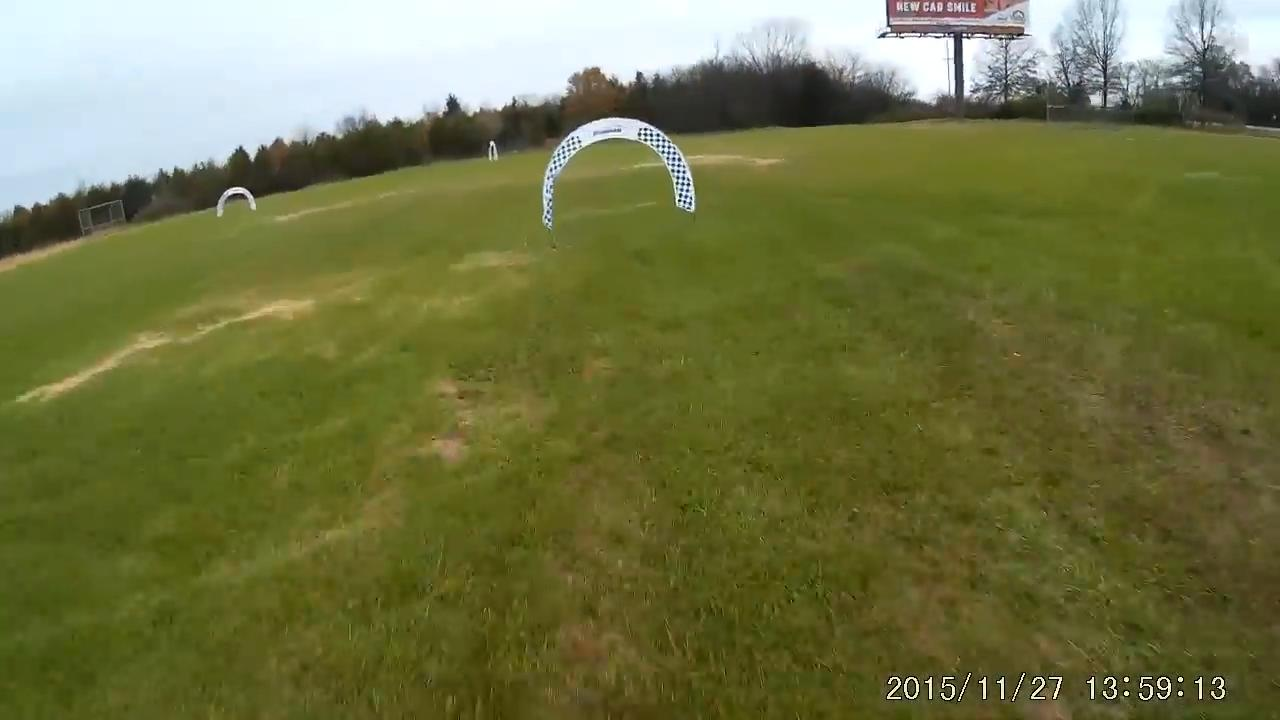gate: (539, 117, 697, 230)
